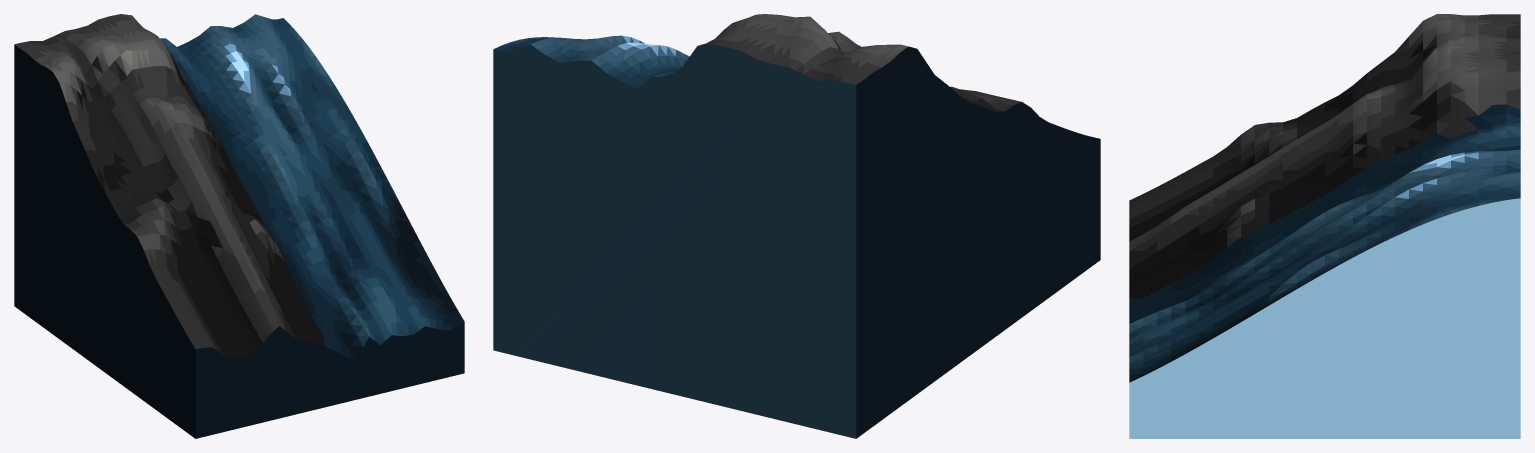
The model's file is torm_fall_tl.glb.
The picture shows the model from 3 angles, left to right: view 1: azimuth 30°, elevation 25°; view 2: azimuth 150°, elevation 25°; view 3: azimuth 270°, elevation 25°; orthographic projection. The views are drawn at different scales.
Parts seen in each view (by area): view 1: torm_fall_tl_fall_body; view 2: torm_fall_tl_fall_body; view 3: torm_fall_tl_fall_body.
Boxes of the visible parts, x1,y1,x2,y2 form: torm_fall_tl_fall_body: (14, 14, 464, 438); torm_fall_tl_fall_body: (493, 14, 1100, 438); torm_fall_tl_fall_body: (1129, 14, 1520, 438).
Size of the model in its own units: 23.98 by 23.03 by 27.98.
